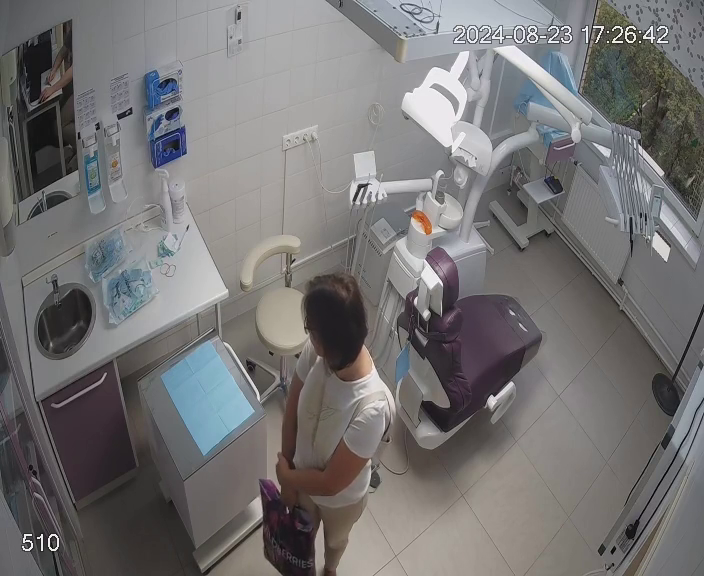Empty: (372, 251, 544, 451)
